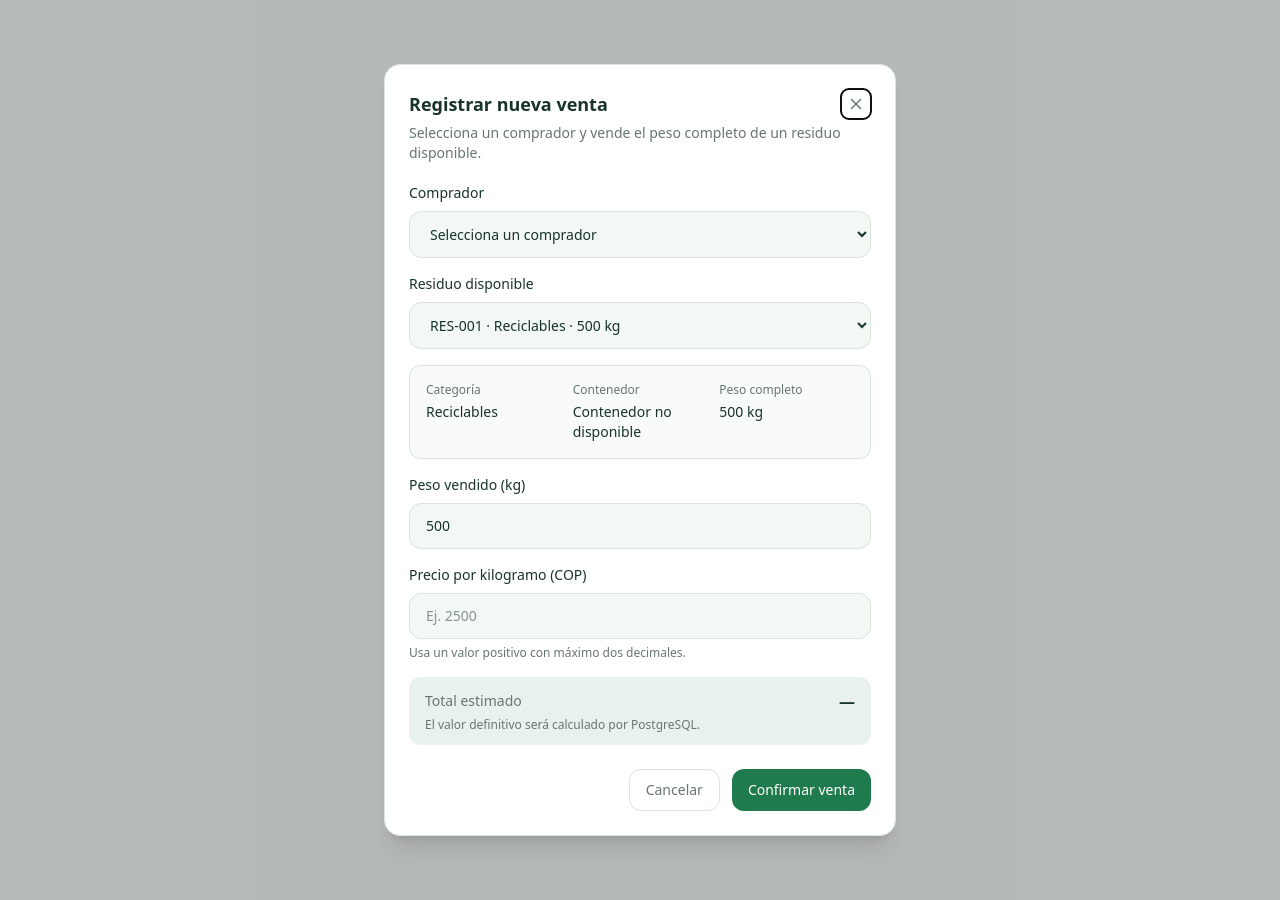
Scenario: SaleRegistrationModal Component - Venta de Residuos y Accesibilidad › 3. Valida que el peso y precio sean positivos y calcula reactivamente el total
Ingresar valores válidos
Replace the text in the number field labelled "Peso vendido (kg)" with "100": coordinates (640, 526) [409, 503, 871, 549]
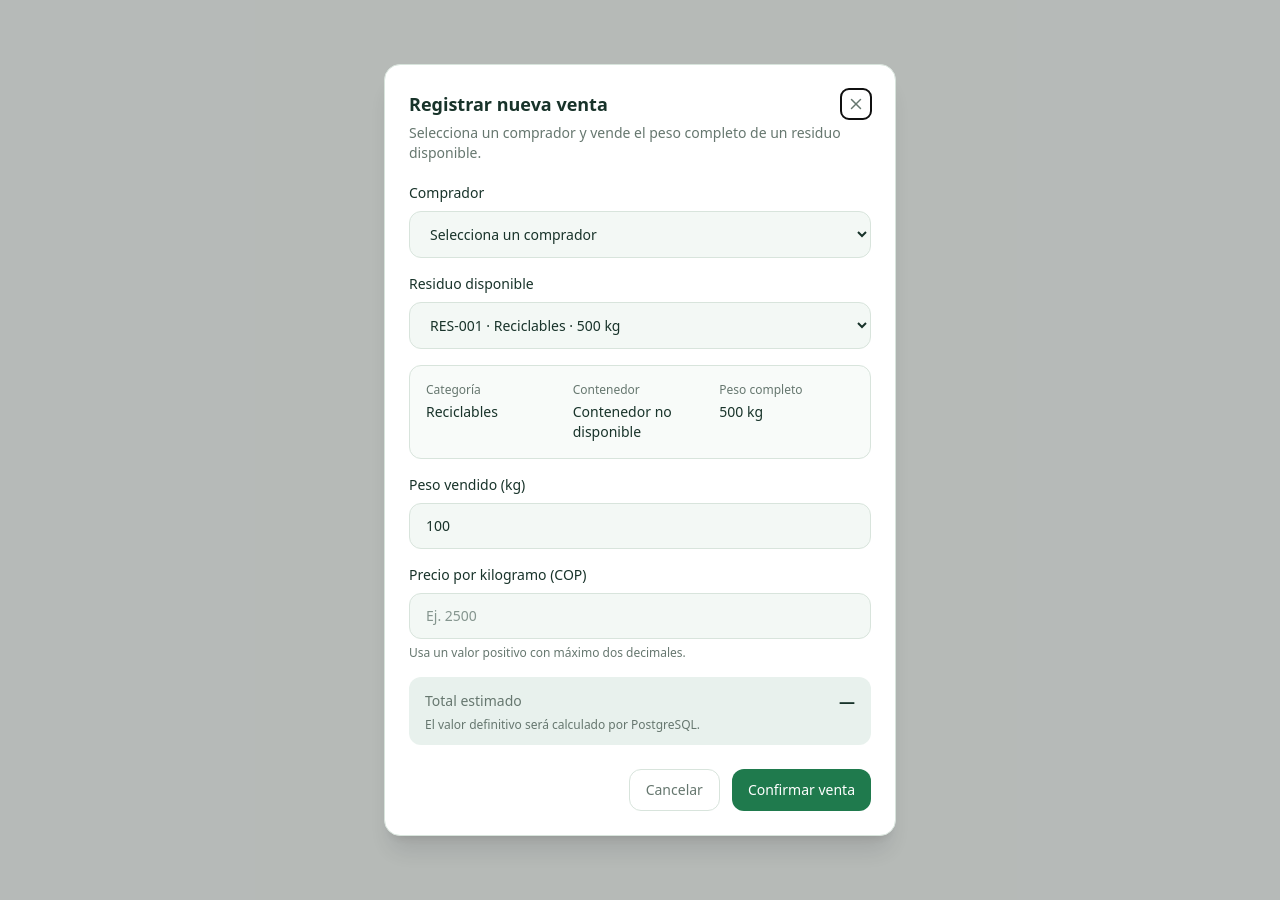
In the field labelled "Precio por kilogramo (COP)": coordinates (640, 616) [409, 593, 871, 639], type "1500"
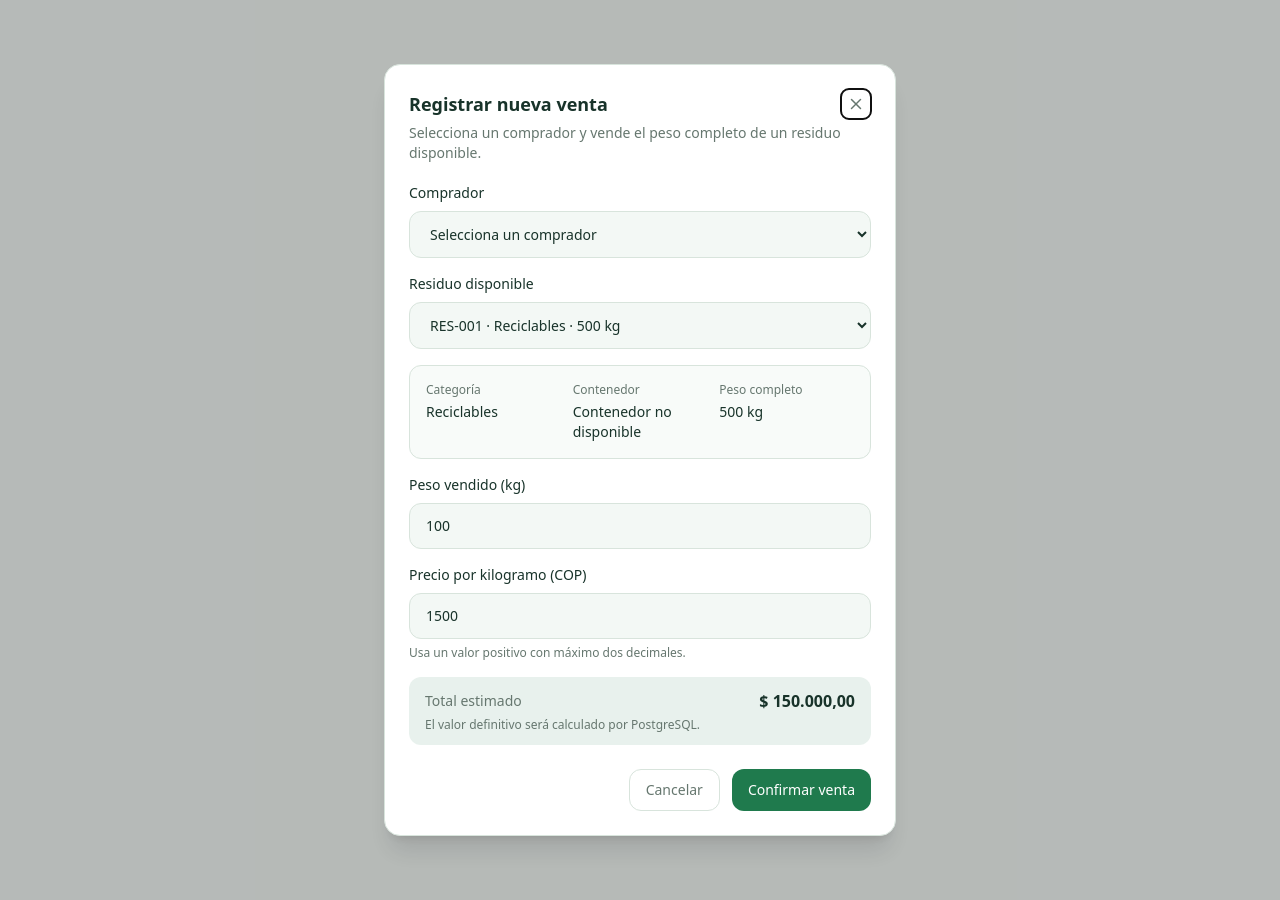
Result: the text "$ 150.000,00" is shown at [759, 689, 855, 713]
